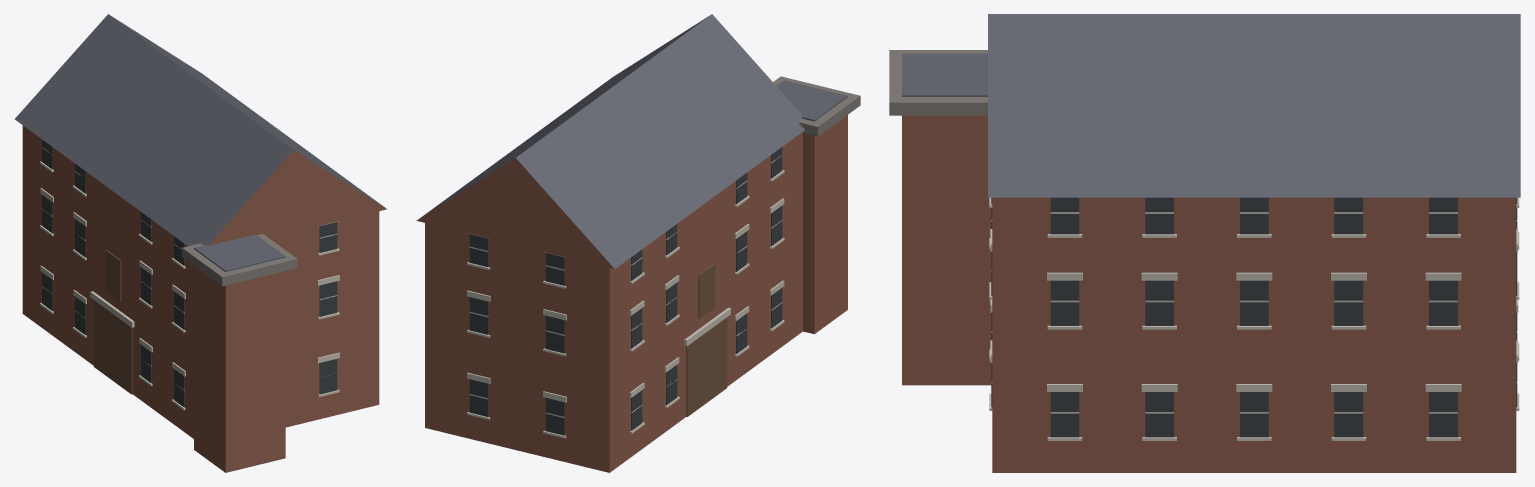
File: house_1910_calumet_coach_house__draft_1904.glb
3 views of the same model, side by side, from view 1: azimuth 30°, elevation 25°; view 2: azimuth 150°, elevation 25°; view 3: azimuth 270°, elevation 25° (orthographic). The views are drawn at different scales.
Parts seen in each view (by area): view 1: house_1910_calumet_coach_house__draft_1904; view 2: house_1910_calumet_coach_house__draft_1904; view 3: house_1910_calumet_coach_house__draft_1904.
Part boxes in pixels (box(x1,y1,x2,y2)): house_1910_calumet_coach_house__draft_1904: box(15, 14, 386, 472); house_1910_calumet_coach_house__draft_1904: box(416, 14, 860, 472); house_1910_calumet_coach_house__draft_1904: box(889, 14, 1520, 472).
Size of the model in its own units: 9.15 by 12.16 by 17.47.
